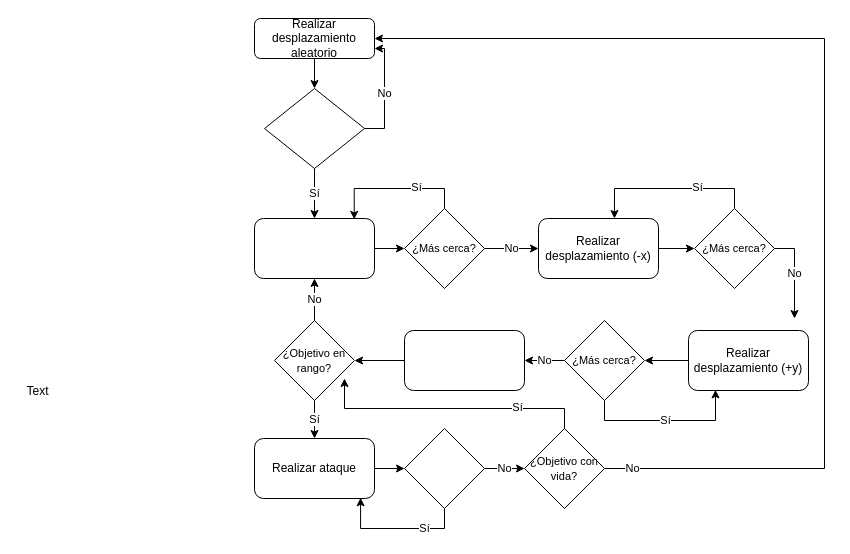
Image size: 850x554. Some labels were removed from this diagram. The shapes that lost their labels are listed below. From the top down, each one's box as (x1, y1, x2, y2) in pixels, then its label:
(264, 88, 364, 168): ¿Evento Alerta?
(254, 218, 374, 278): Realizar desplazamiento (+x)
(404, 330, 524, 390): Realizar desplazamiento (-y)
(404, 428, 484, 508): ¿Ataque exitoso?
